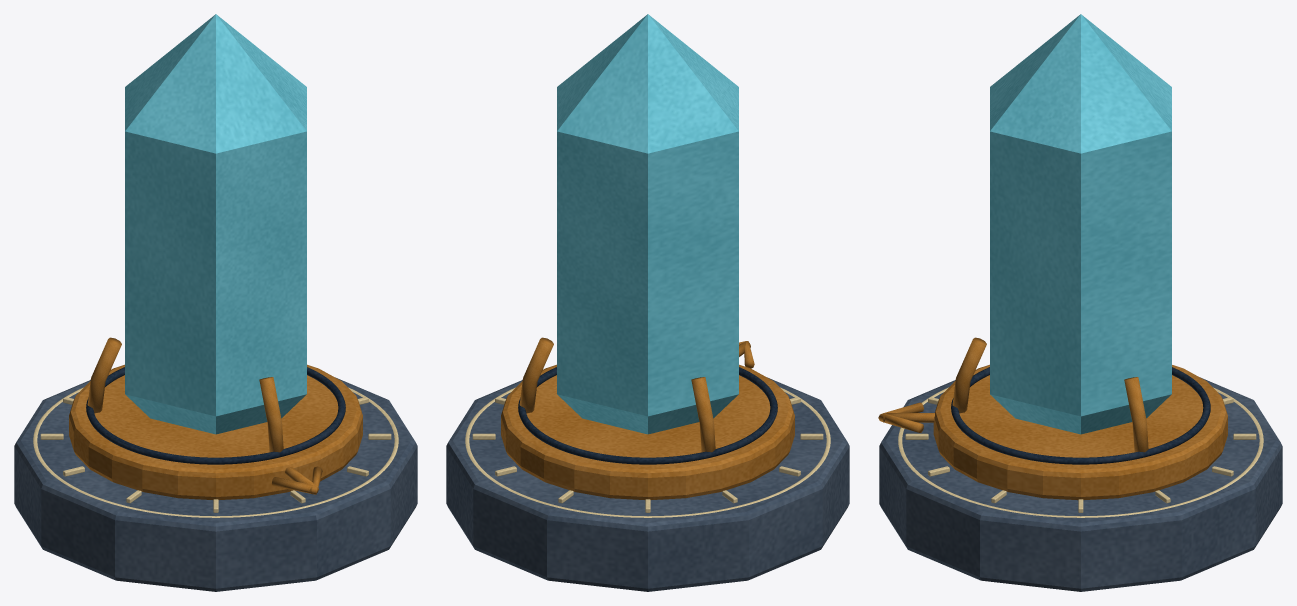
Rendered from ThawPrism.fbx.
The picture shows the model from 3 angles, left to right: view 1: azimuth 30°, elevation 25°; view 2: azimuth 150°, elevation 25°; view 3: azimuth 270°, elevation 25°; orthographic projection.
Visible parts, largest first — view 1: Cut crystal.003, Stone foot.003, Brass bearing.003, Bearing inset.002, Foot molding.002, Crystal retaining claw.007, Crystal retaining claw.008, Alignment arrow head; view 2: Cut crystal.003, Stone foot.003, Brass bearing.003, Bearing inset.002, Foot molding.002, Crystal retaining claw.006, Crystal retaining claw.007; view 3: Cut crystal.003, Stone foot.003, Brass bearing.003, Bearing inset.002, Foot molding.002, Crystal retaining claw.008, Crystal retaining claw.006, Alignment arrow head.
Part boxes in pixels (bbox=[...]): Cut crystal.003: bbox=[125, 14, 306, 434]; Stone foot.003: bbox=[14, 377, 417, 591]; Brass bearing.003: bbox=[69, 364, 362, 499]; Bearing inset.002: bbox=[86, 367, 345, 464]; Foot molding.002: bbox=[33, 387, 398, 517]; Crystal retaining claw.007: bbox=[87, 337, 121, 413]; Crystal retaining claw.008: bbox=[259, 377, 283, 452]; Alignment arrow head: bbox=[272, 466, 322, 494]; Cut crystal.003: bbox=[557, 14, 738, 434]; Stone foot.003: bbox=[446, 377, 849, 591]; Brass bearing.003: bbox=[501, 364, 794, 499]; Bearing inset.002: bbox=[518, 367, 777, 464]; Foot molding.002: bbox=[465, 387, 830, 517]; Crystal retaining claw.006: bbox=[519, 337, 553, 413]; Crystal retaining claw.007: bbox=[691, 377, 715, 452]; Cut crystal.003: bbox=[990, 14, 1171, 434]; Stone foot.003: bbox=[879, 377, 1282, 591]; Brass bearing.003: bbox=[933, 364, 1227, 500]; Bearing inset.002: bbox=[951, 367, 1210, 464]; Foot molding.002: bbox=[898, 387, 1263, 517]; Crystal retaining claw.008: bbox=[952, 337, 986, 413]; Crystal retaining claw.006: bbox=[1124, 377, 1148, 452]; Alignment arrow head: bbox=[878, 402, 923, 432].
Size of the model in its own units: 96 by 130 by 96.2.
5 materials, 5 textured.
